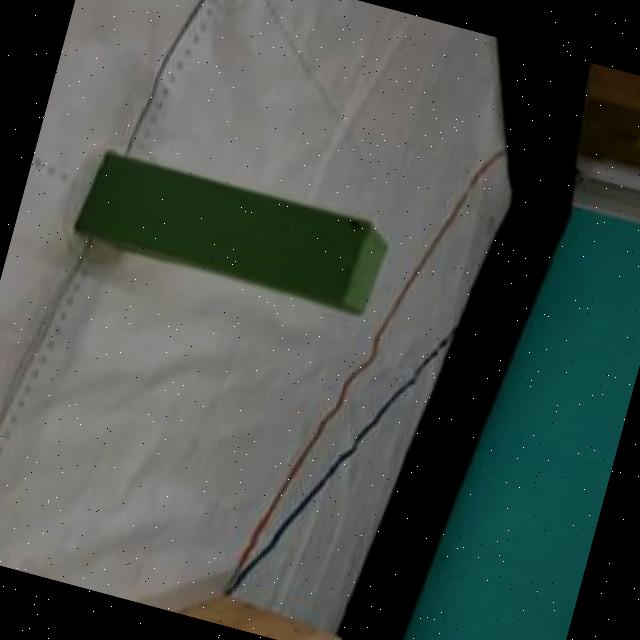greenbox: (72, 147, 394, 318)
